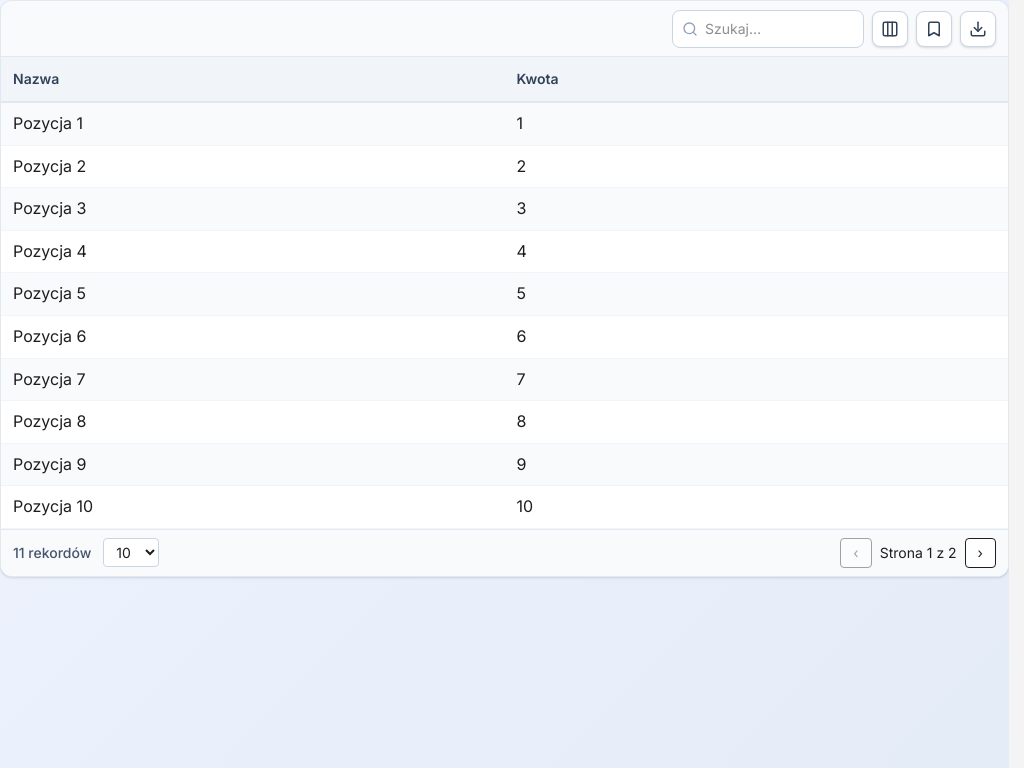
Scenario: DataGrid inline editing › paginates rows while keeping the footer controls stable
The width and height of the screenshot is (1024, 768).
expect the text "Pozycja 1" is shown: met, box [1,103,504,146]
expect the text "Pozycja 11" is not shown: met
Step 1. Click the button "›" → (980, 553), box [965,538,996,568]
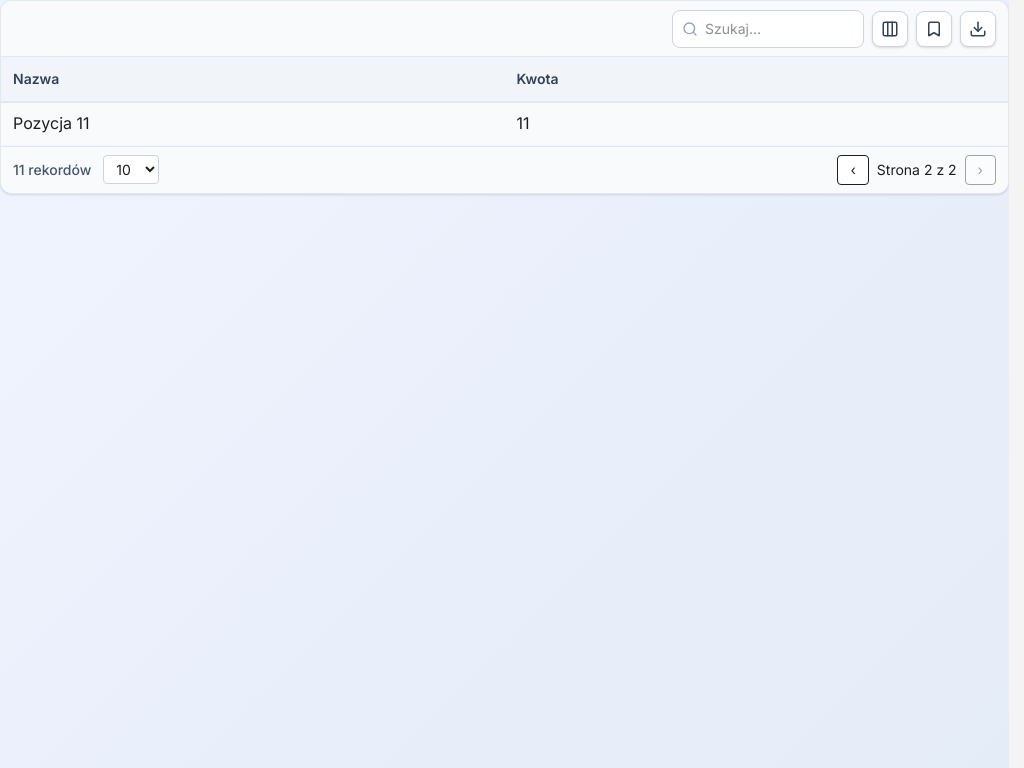
expect the text "Pozycja 11" is shown: met, box [1,103,504,146]
expect the text "Strona 2 z 2" is shown: met, box [877,160,957,180]
